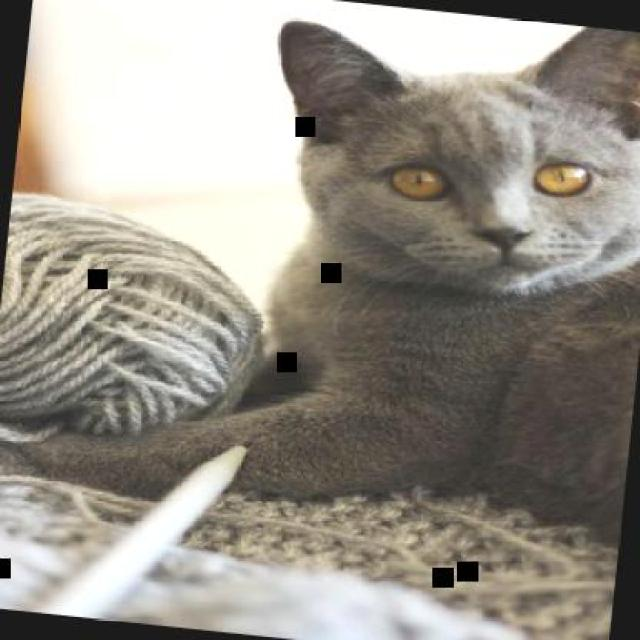cat: (6, 0, 639, 551)
